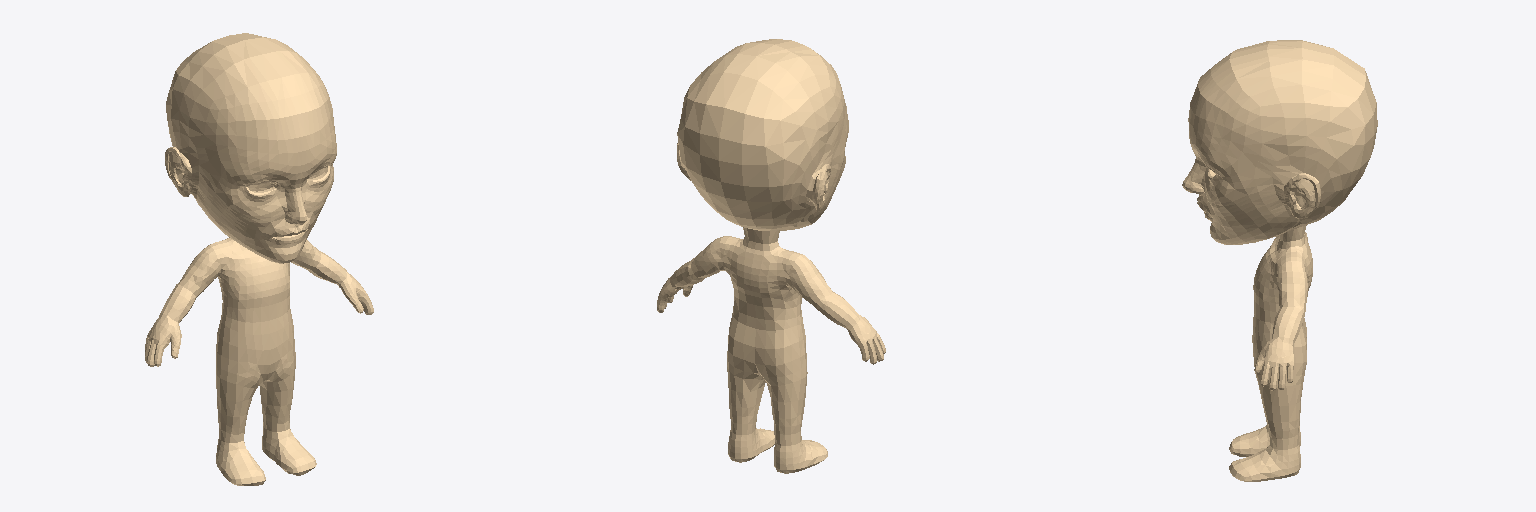
The model's file is boy13.obj.
The picture shows the model from 3 angles: view 1: azimuth 30°, elevation 25°; view 2: azimuth 150°, elevation 25°; view 3: azimuth 270°, elevation 25°; orthographic projection.
Visible parts, largest first — view 1: body027; view 2: body027; view 3: body027.
Part boxes in pixels (x1,y1,x2,y2): body027: (145, 33, 373, 485); body027: (657, 39, 885, 473); body027: (1182, 40, 1377, 481).
Size of the model in its own units: 0.4289 by 0.7589 by 0.3233.